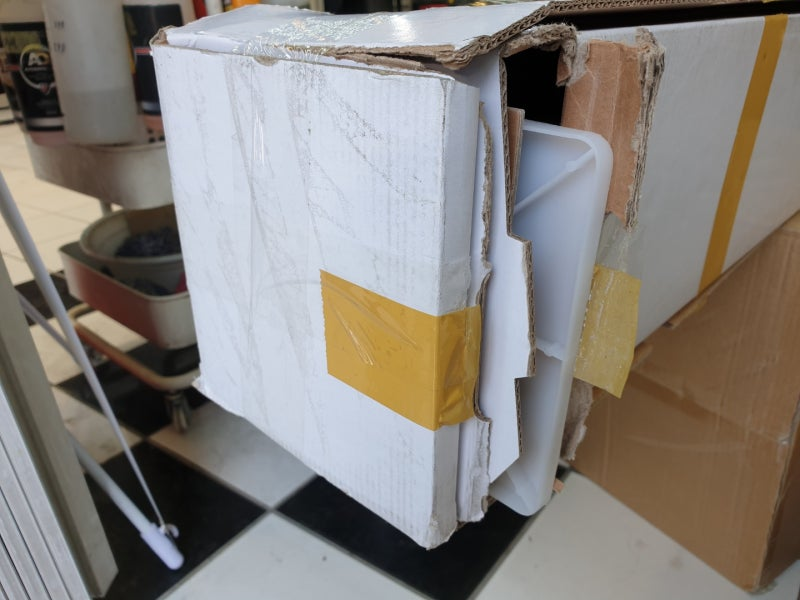damaged package: (285, 0, 678, 525)
